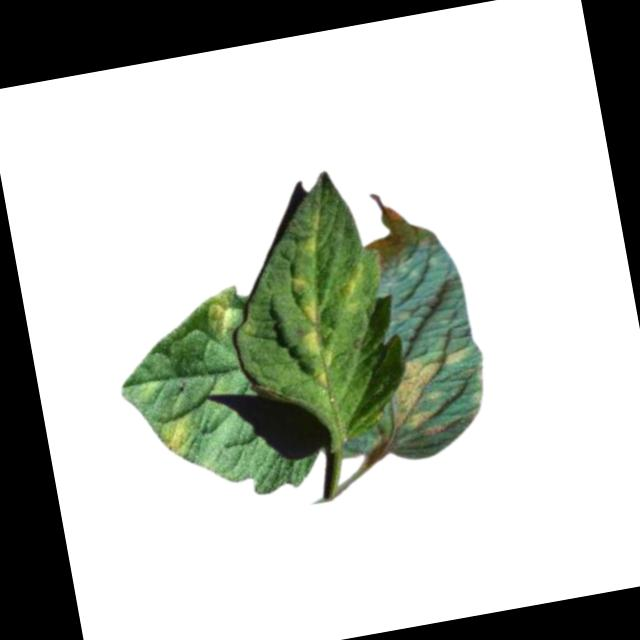Leaf_Mold: (278, 212, 347, 390), (381, 341, 486, 442), (151, 404, 199, 459), (332, 258, 374, 313), (200, 286, 242, 337)
